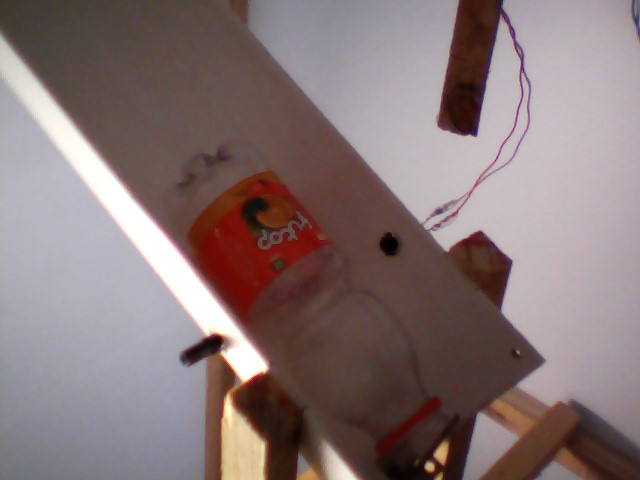plastico: (151, 132, 463, 480)
